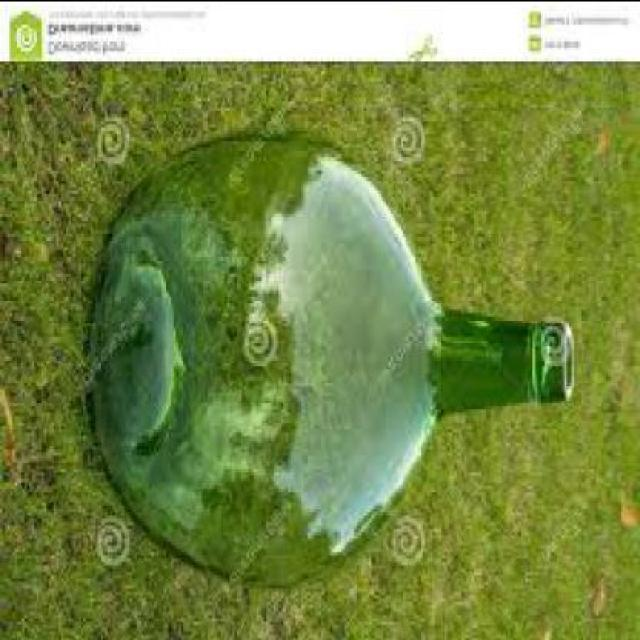GLASS: (88, 136, 577, 587)
